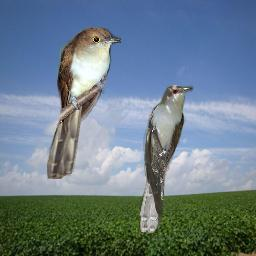Cuckoo: (47, 26, 121, 179), (138, 83, 194, 233)
